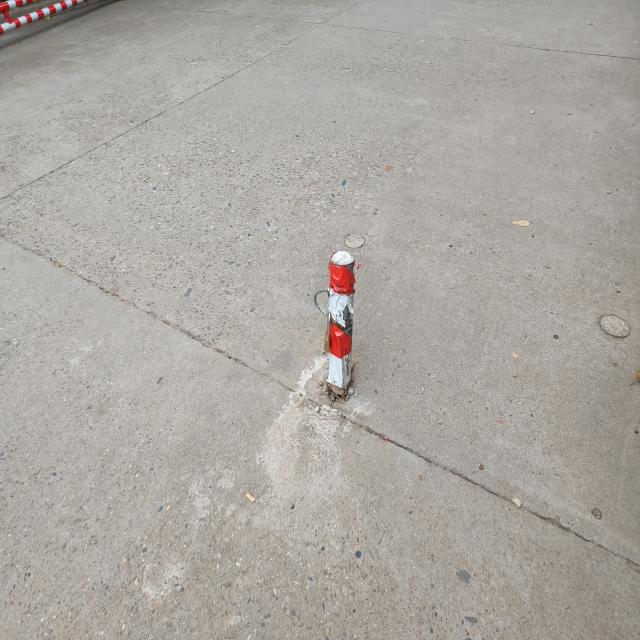warning_column: (319, 248, 358, 400)
